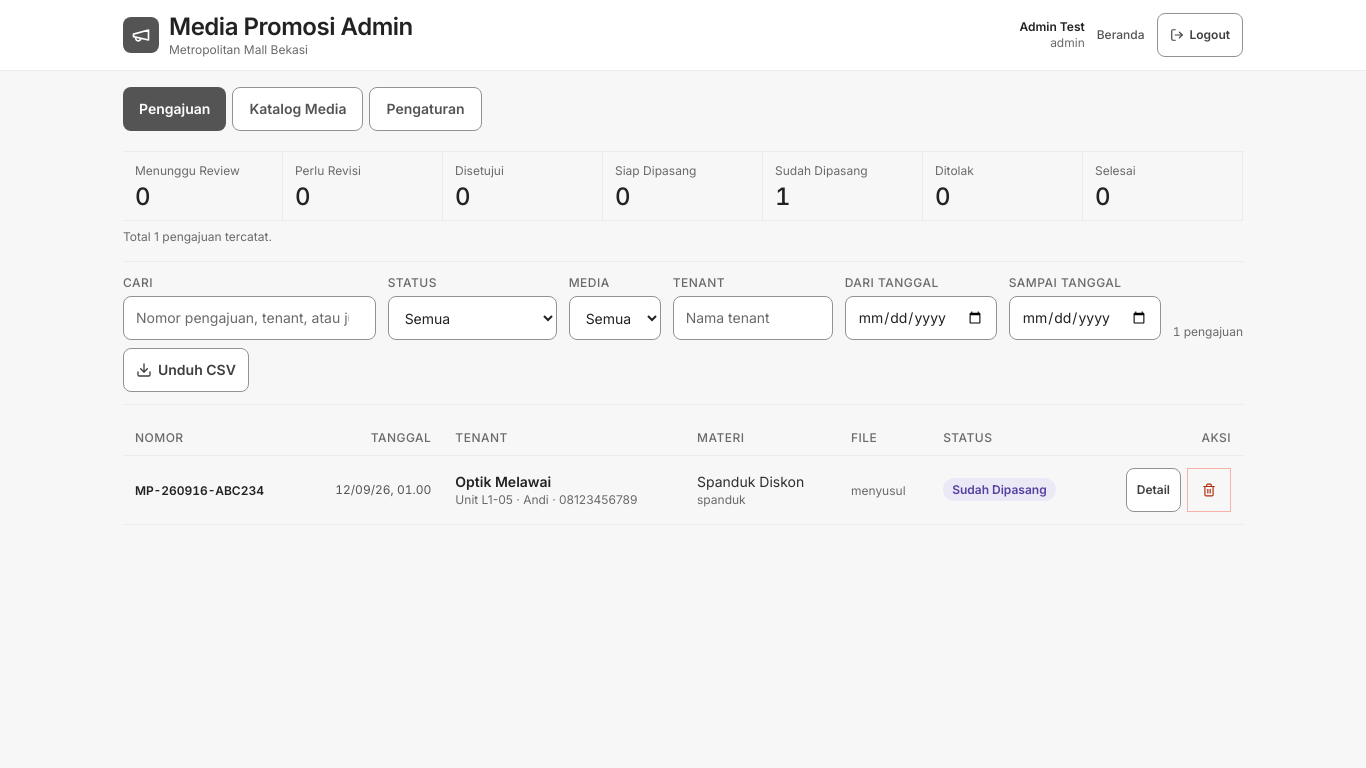
AdminDashboardPage - bukti tayang kanal unggahan › kanal tautan tetap dirender seperti sebelumnya
Expected: the text "Optik Melawai" is shown, [455,472,551,490]
Click the button "Detail": (1153, 490) [1126,468,1181,512]
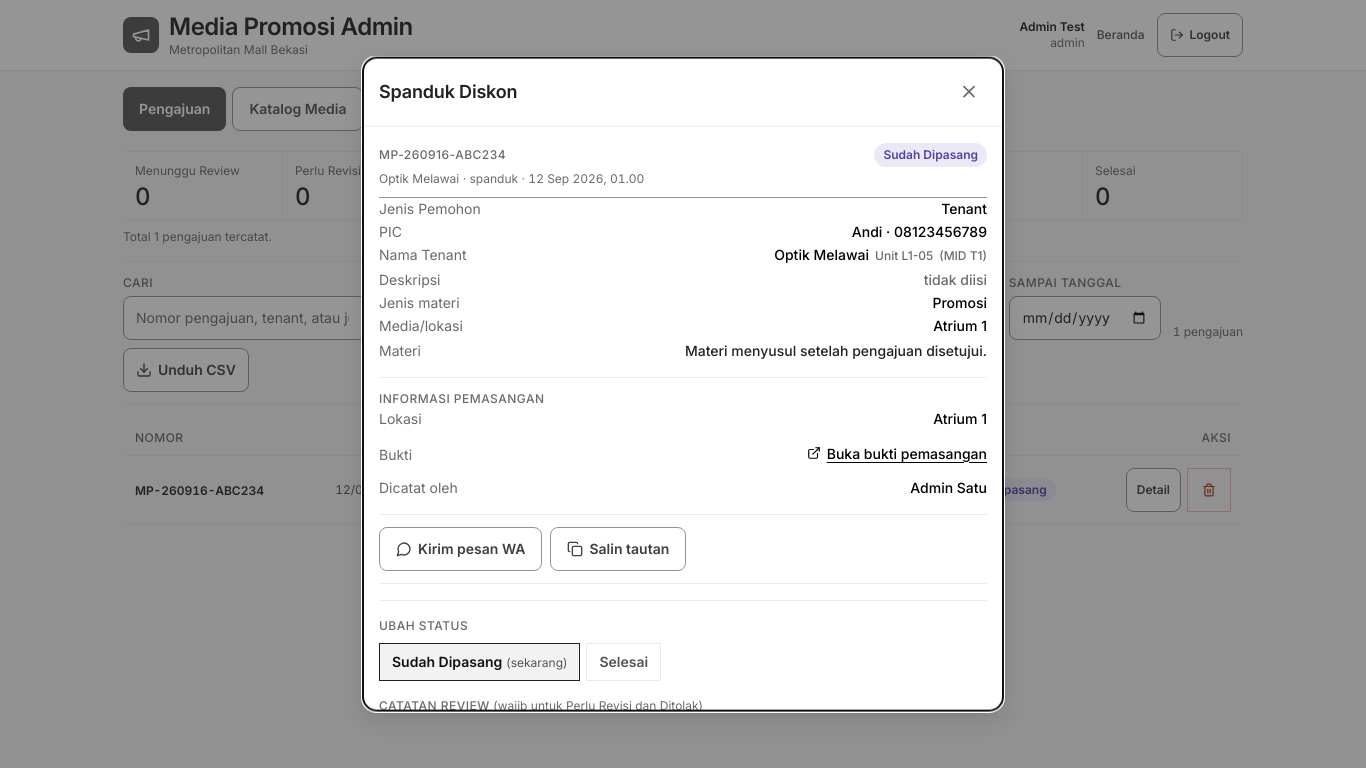
Now the text "Informasi pemasangan" is shown, box [379,391,544,406]
